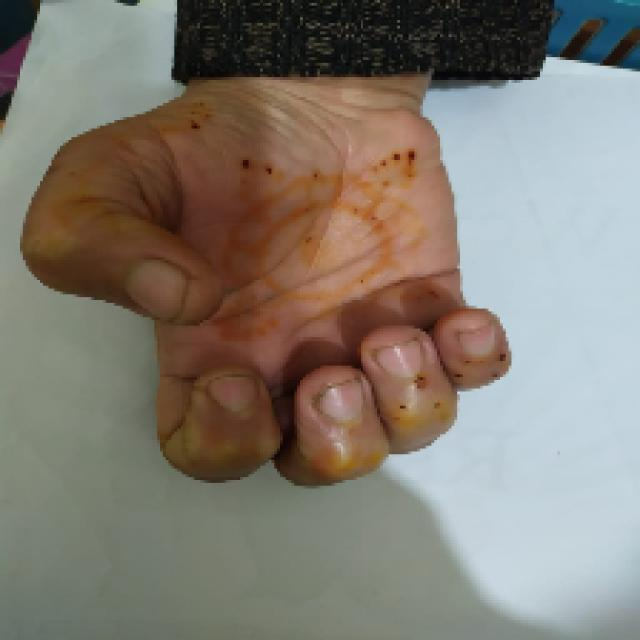Nail: (125, 260, 189, 321), (208, 376, 259, 415), (374, 340, 424, 379), (318, 380, 364, 421), (457, 324, 493, 357)
